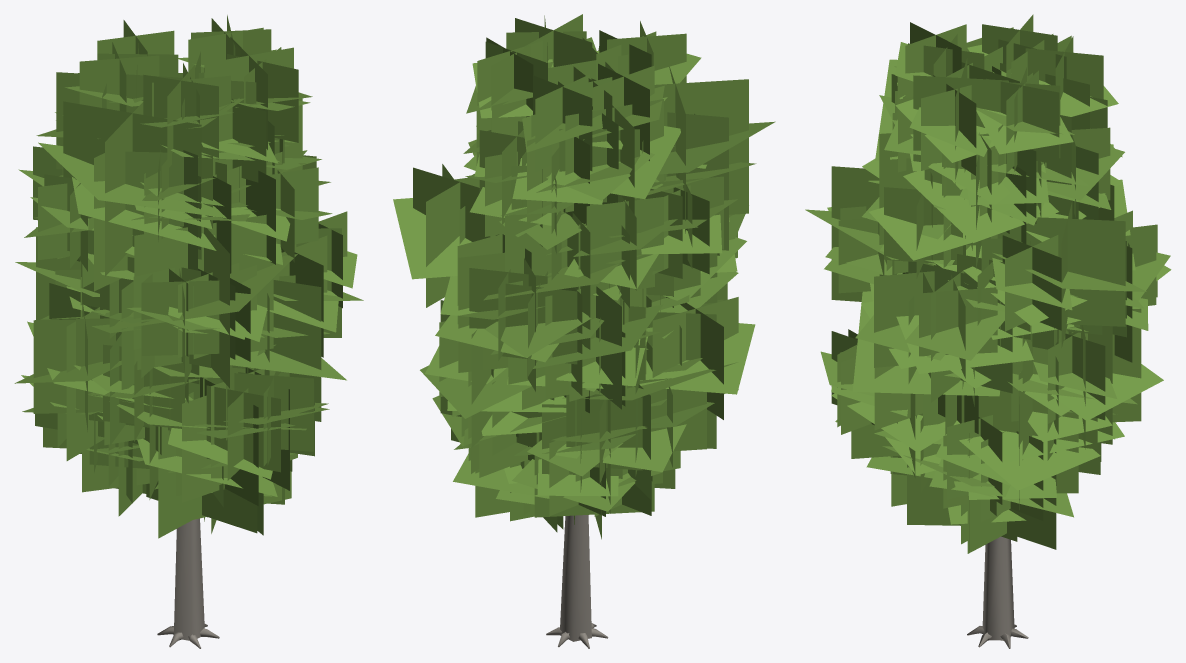
File: tilleul_5_loin.glb
3 views of the same model, side by side, from view 1: azimuth 30°, elevation 25°; view 2: azimuth 150°, elevation 25°; view 3: azimuth 270°, elevation 25° (orthographic).
Visible parts, largest first — view 1: Tilleul_T5_Leger_Loin; view 2: Tilleul_T5_Leger_Loin; view 3: Tilleul_T5_Leger_Loin.
Part boxes in pixels (<box>): Tilleul_T5_Leger_Loin: <box>14,15,363,648</box>; Tilleul_T5_Leger_Loin: <box>393,14,775,648</box>; Tilleul_T5_Leger_Loin: <box>805,14,1171,648</box>.
Bounding box in the file's own units: 12.03 × 20.99 × 11.97.
